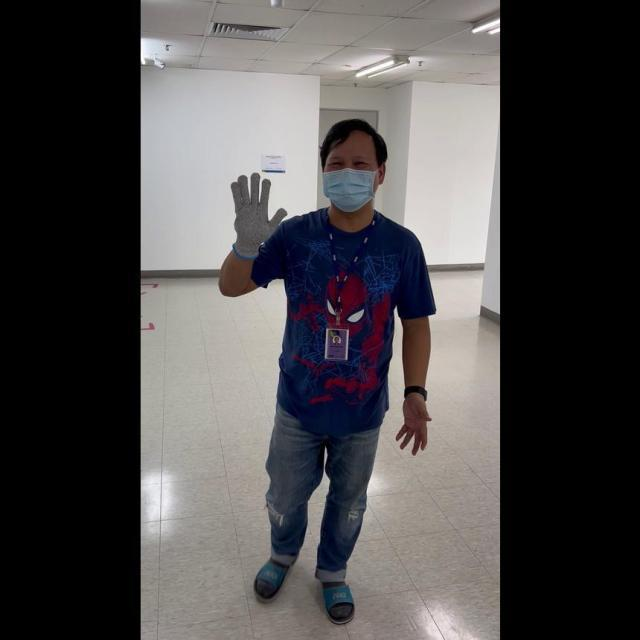bare_hand: (393, 389, 432, 455)
gloved_hand: (227, 169, 287, 259)
